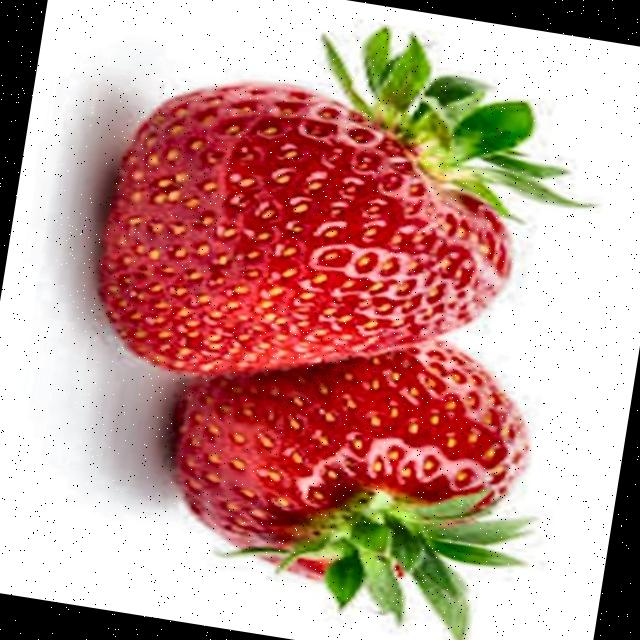strawberry: (100, 30, 586, 376), (173, 343, 528, 640)
